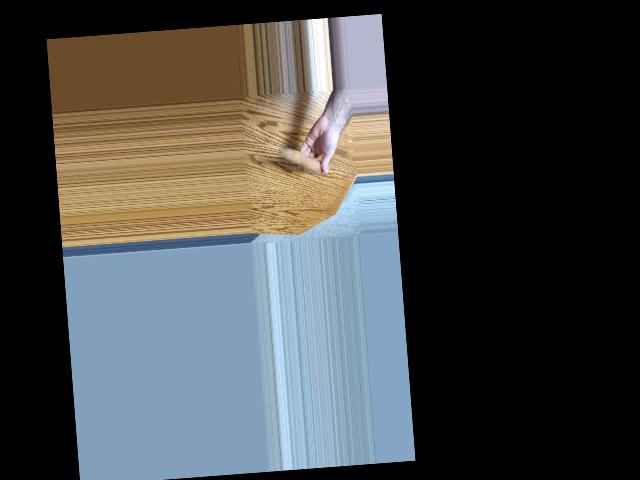sweet_potato: (276, 140, 330, 178)
